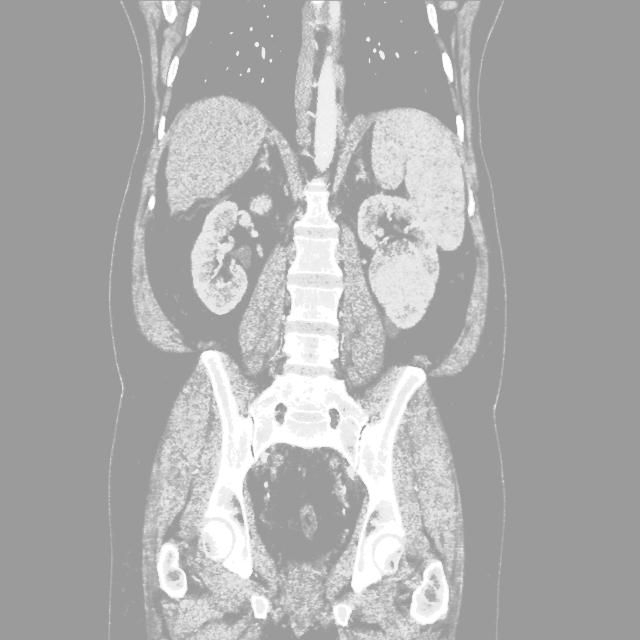TUMOR: (105, 175, 595, 511)
